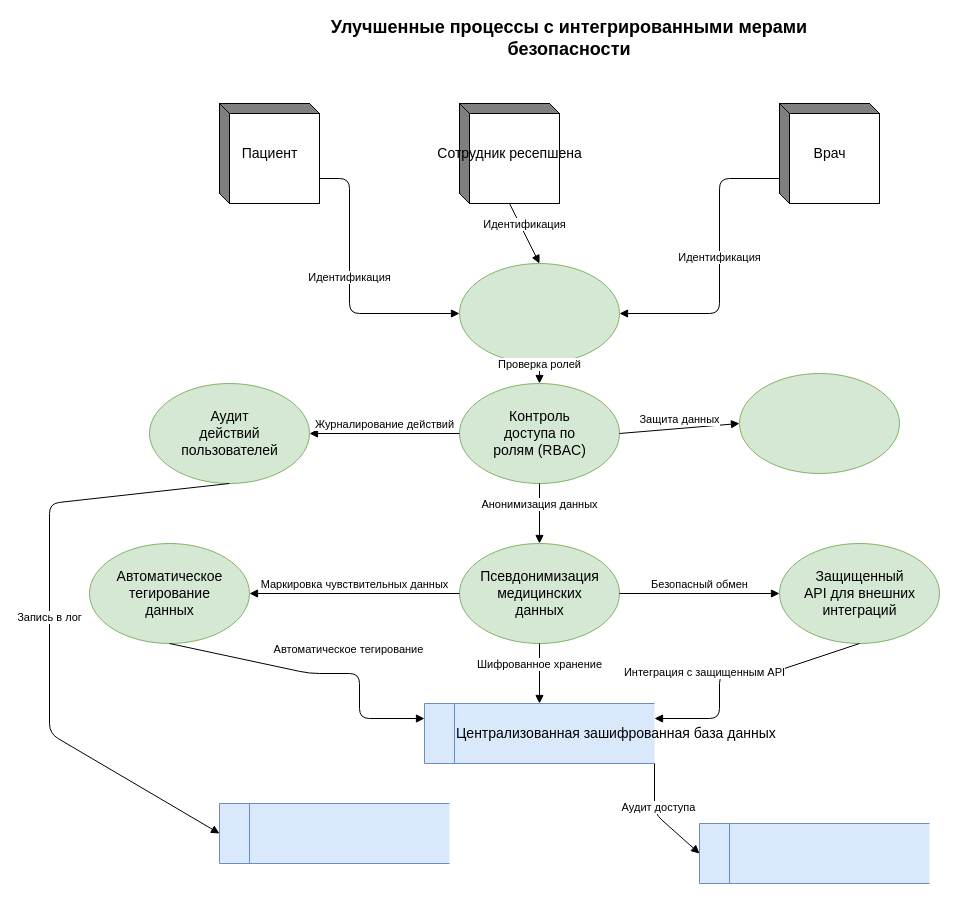
Image size: 957x901. Some labels were removed from this diagram. The box of each missing label's shape, as (x1, y1, x2, y2) in pixels:
Журнал аудита: (698, 822, 930, 884)
Процесс идентификации и аутентификации: (458, 262, 620, 364)
Система мониторинга и алертинга: (218, 802, 450, 864)
Шифрование данных в хранилище: (738, 372, 900, 474)
